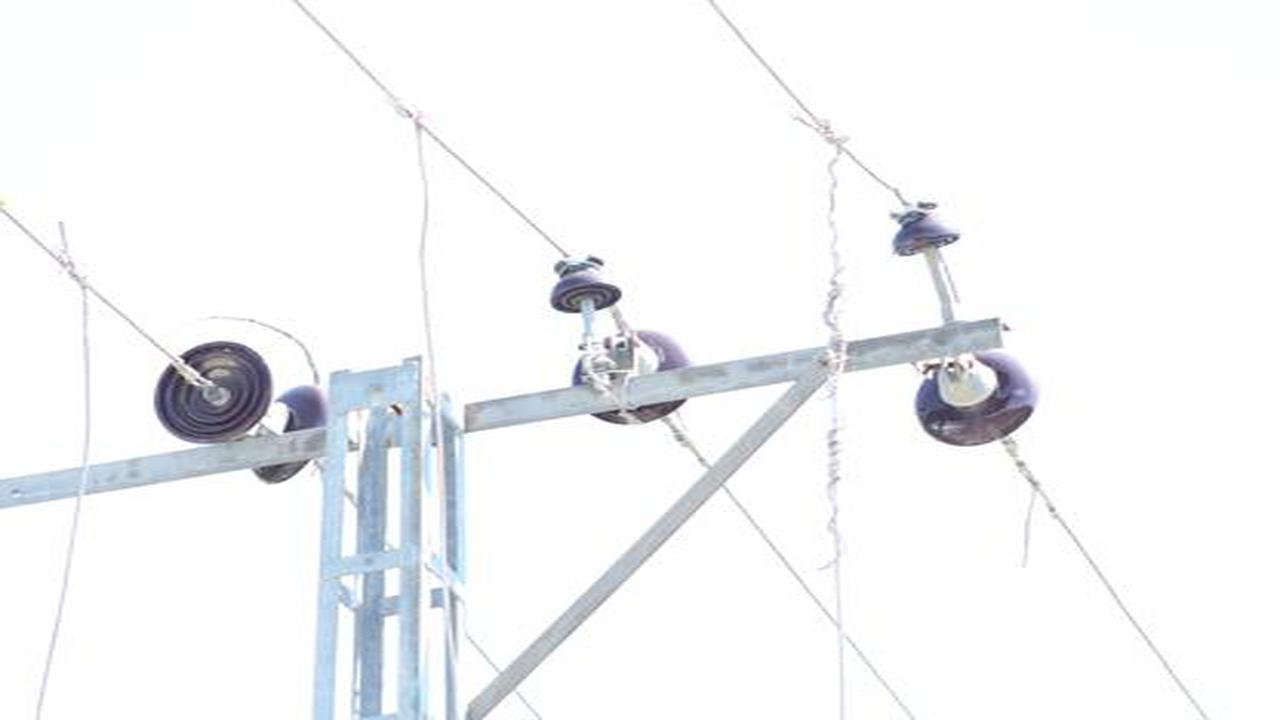insulator_disc: (150, 337, 278, 443), (915, 350, 1039, 450)
insulator_pin: (883, 190, 962, 263), (544, 248, 625, 316)
